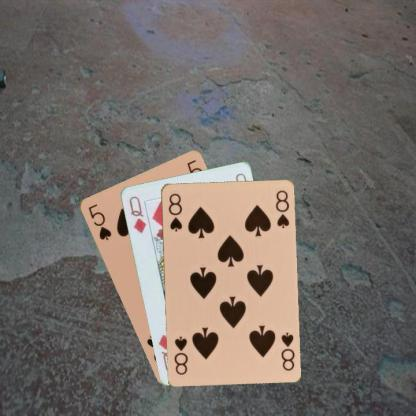5s: (85, 201, 113, 242)
8s: (278, 329, 296, 372), (165, 190, 183, 232)
Qd: (126, 193, 147, 235)
